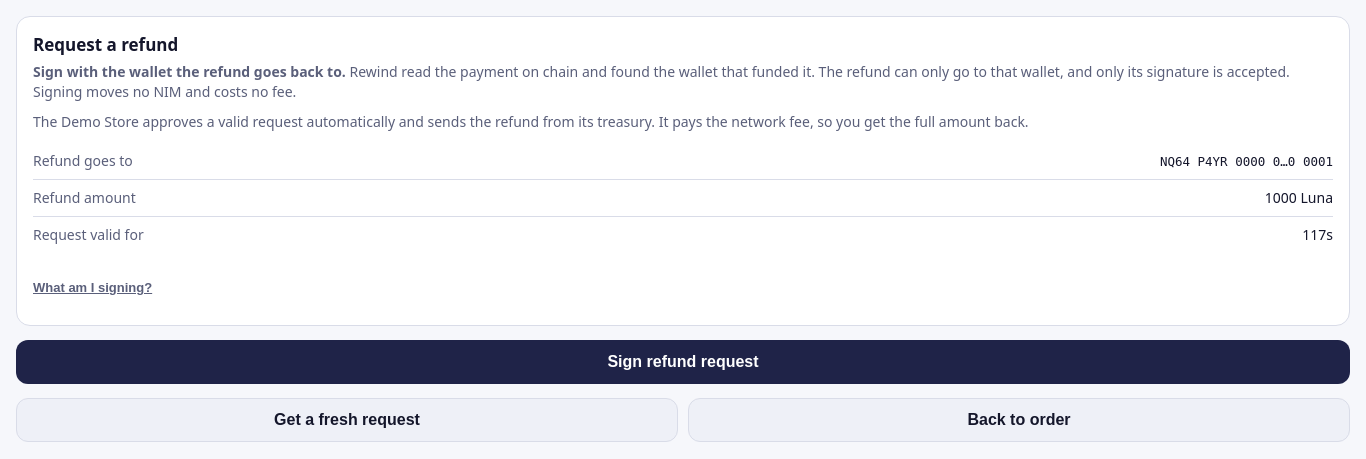
it: Refund request › signs and submits the exact bytes it displayed
This screenshot has width=1366, height=459.
Click the button "Sign refund request" at [683, 362], box [16, 340, 1350, 384]
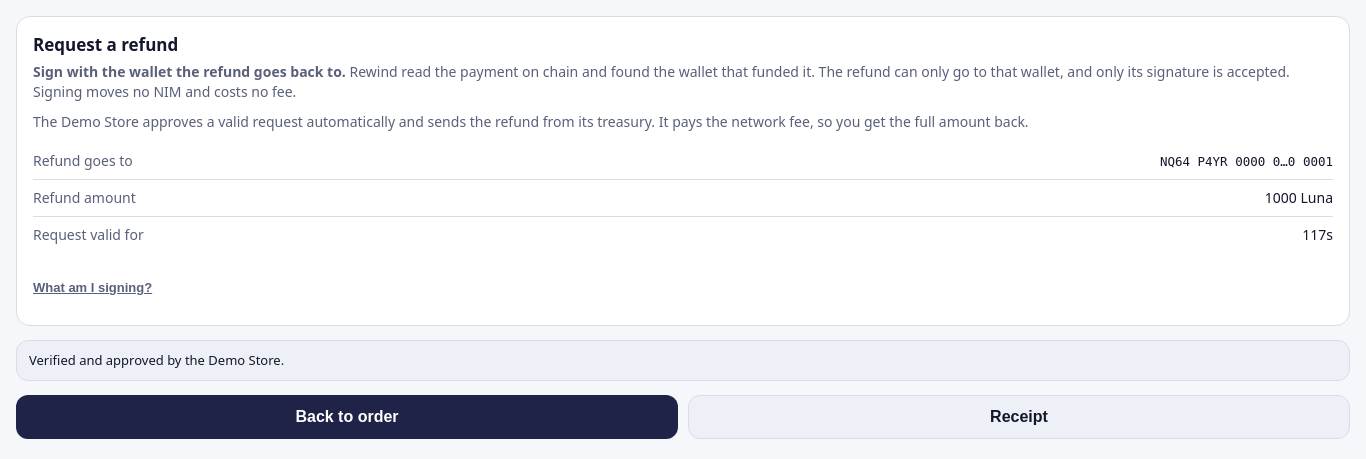
Check: the text "approved by the Demo Store" is shown, box [29, 351, 284, 369]
